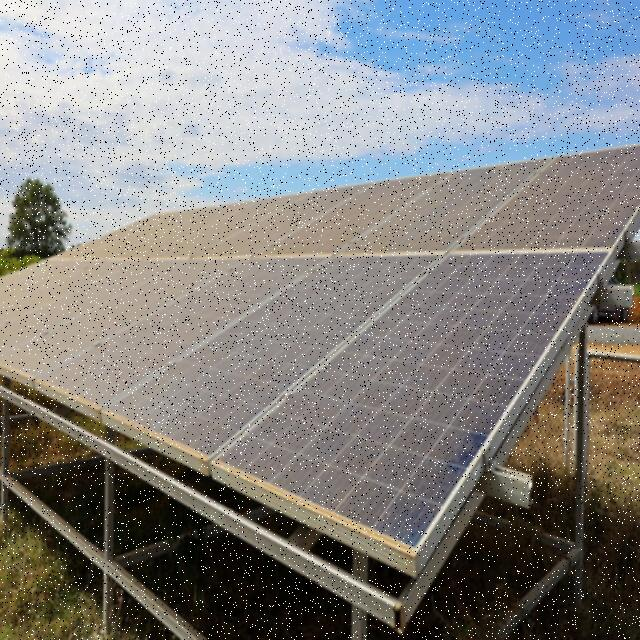dusty: (0, 146, 638, 549)
